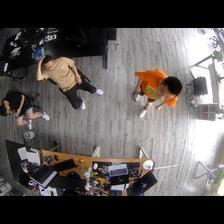normal: (37, 55, 108, 111), (131, 67, 181, 120)
